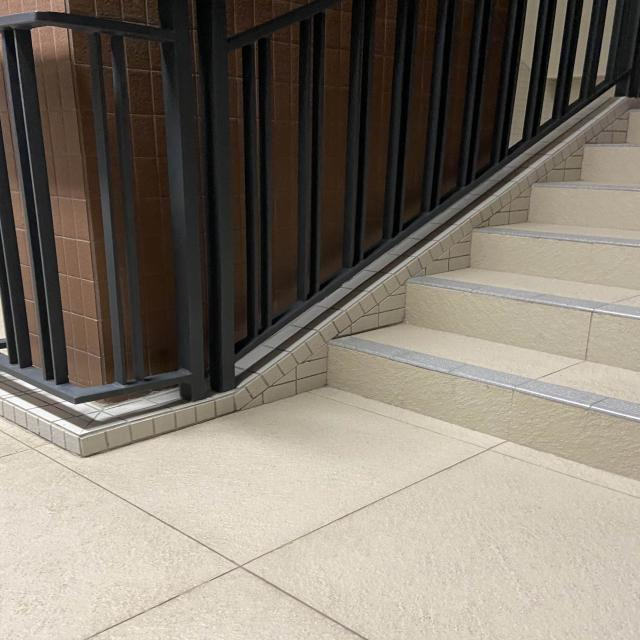Stairs: (300, 113, 640, 488)
